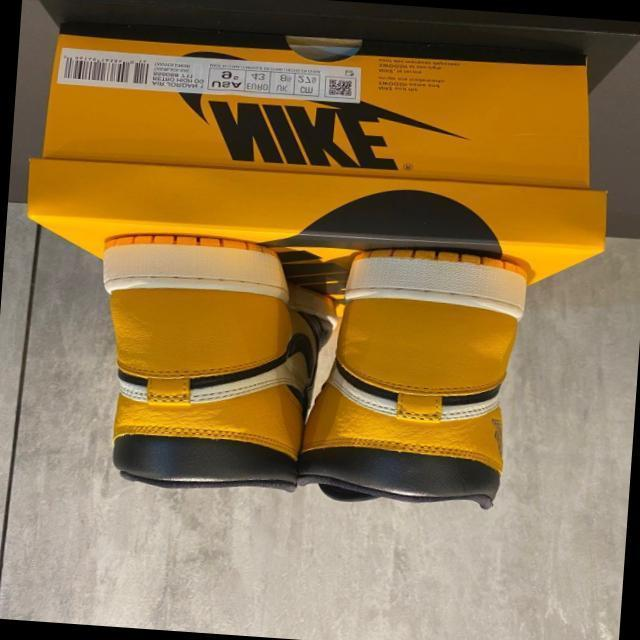nike original jordan 1: (80, 226, 352, 498), (302, 238, 534, 510)
